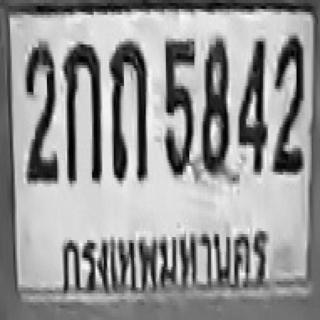A01: (62, 41, 100, 181)
A22: (108, 39, 146, 178)
N02: (24, 39, 56, 181), (271, 34, 303, 173)
N04: (236, 36, 266, 172)
N05: (163, 37, 194, 176)
N08: (201, 34, 230, 173)
P04: (52, 217, 273, 296)
